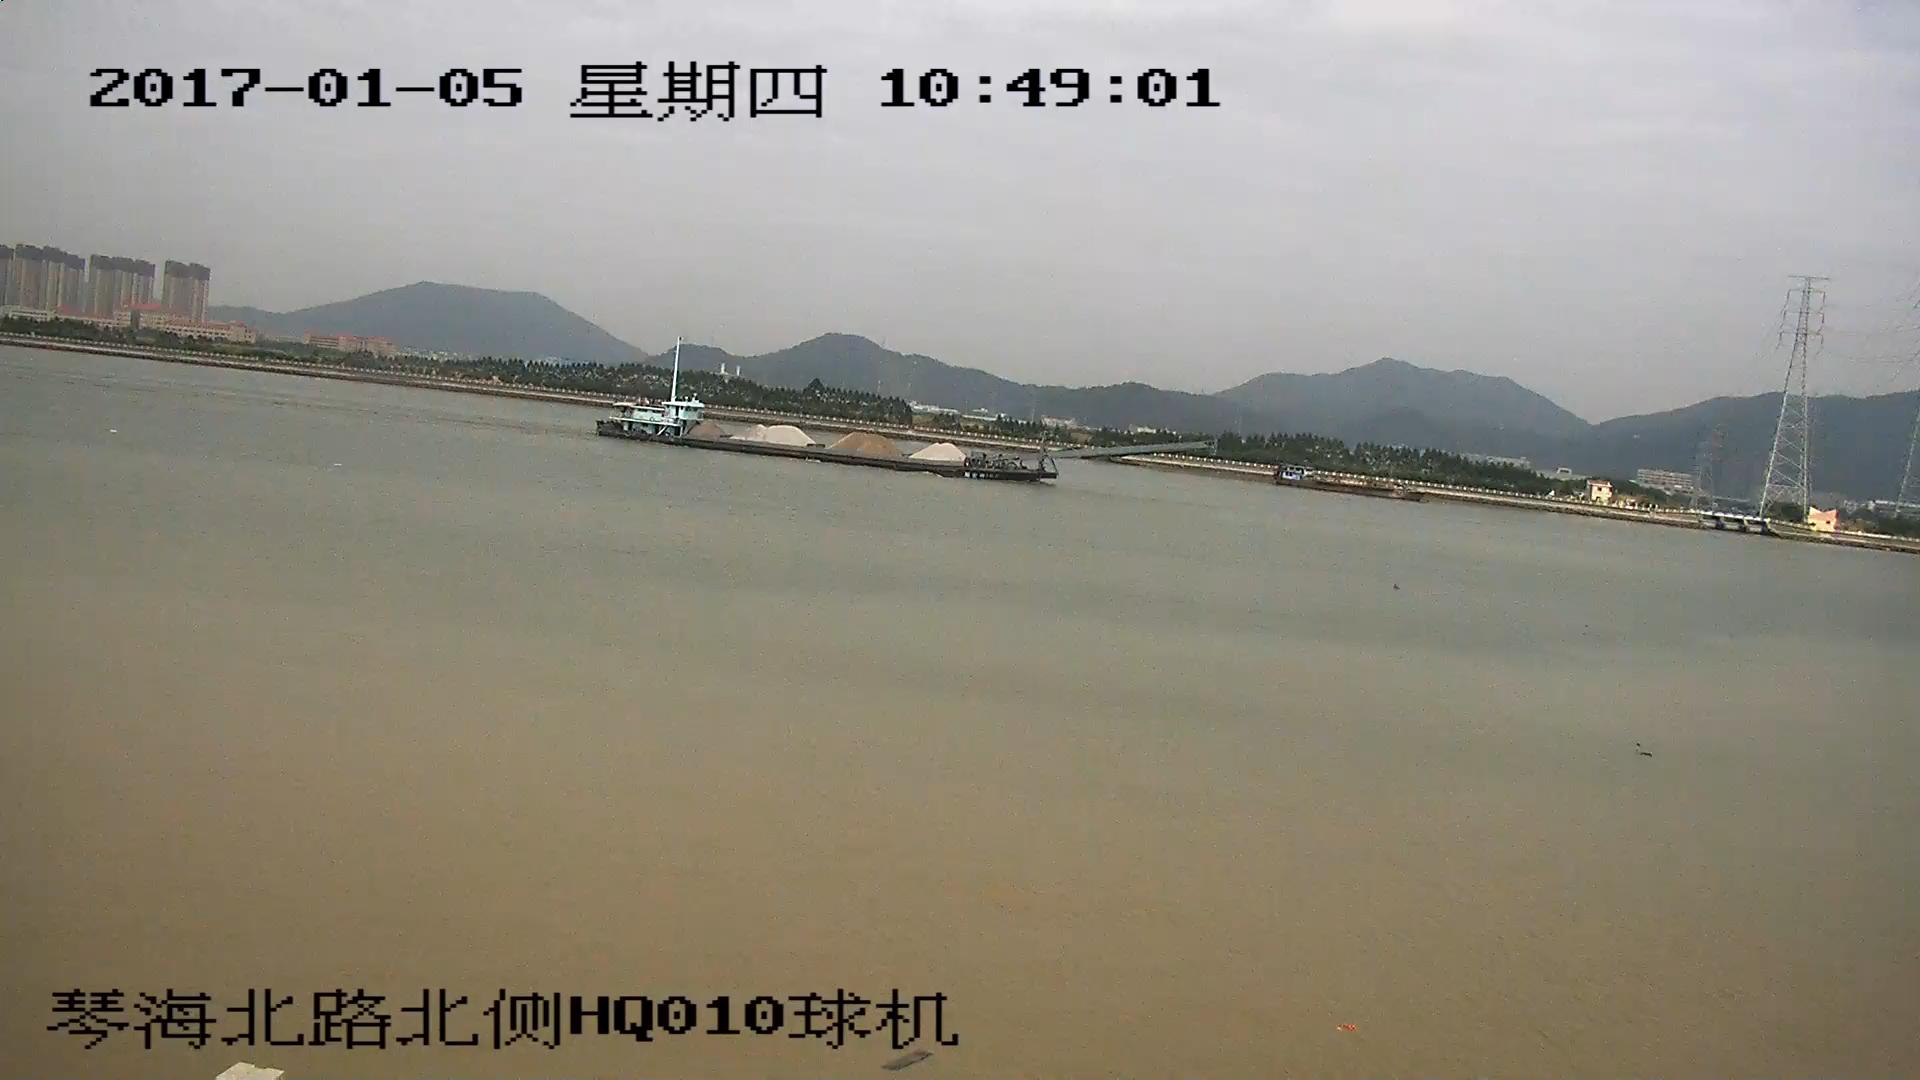ore carrier: (604, 343, 1204, 477)
